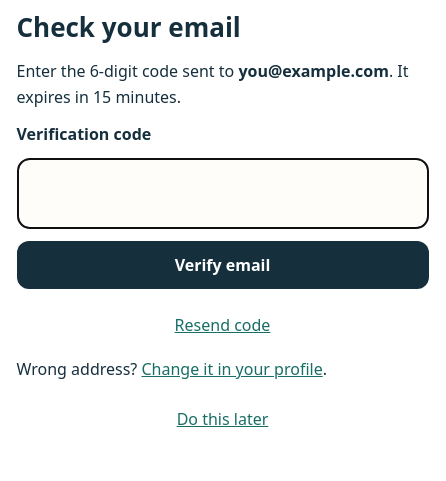
the server's resend Retry-After is respected
Click the button "Resend code" at [222, 325], box [167,305,278,345]
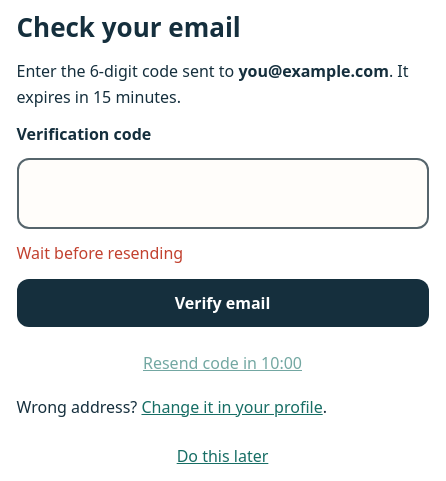
Check: the message reads "Wait before resending", box [16,242,183,264]
Check: the button "Resend code in 10:00" is disabled, box [135,343,310,383]
